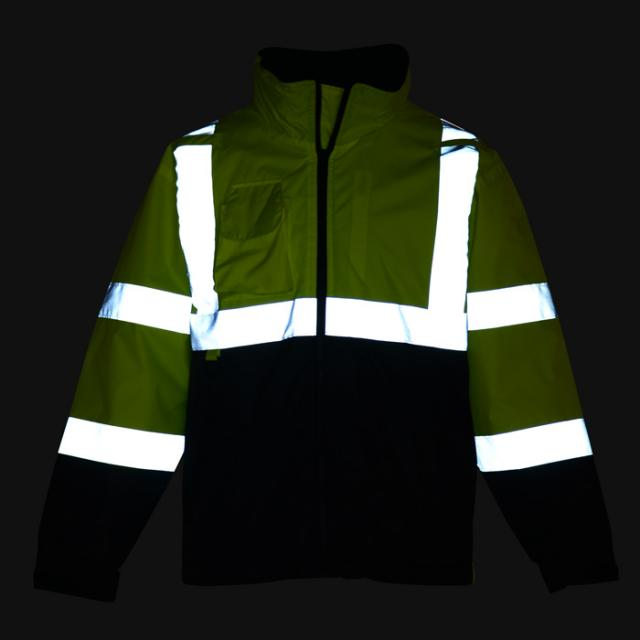Reflective-Jacket: (25, 40, 624, 598)
